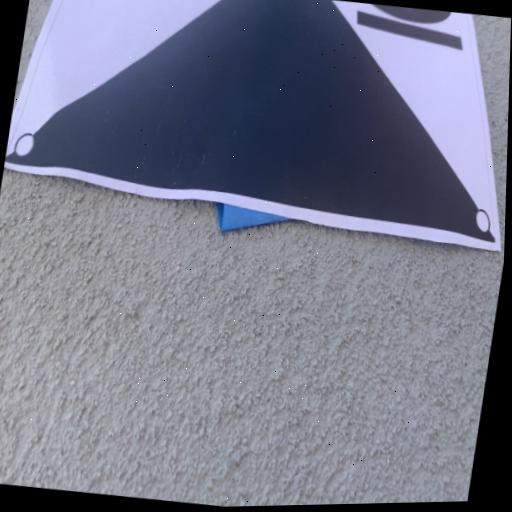target8: (4, 0, 499, 251)
